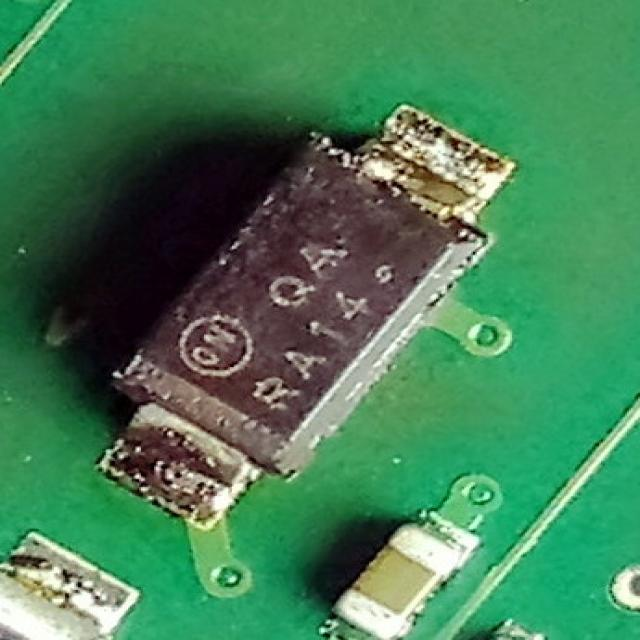capacitor 1V5: (319, 492, 469, 640)
diode -D1-: (110, 117, 490, 482)
